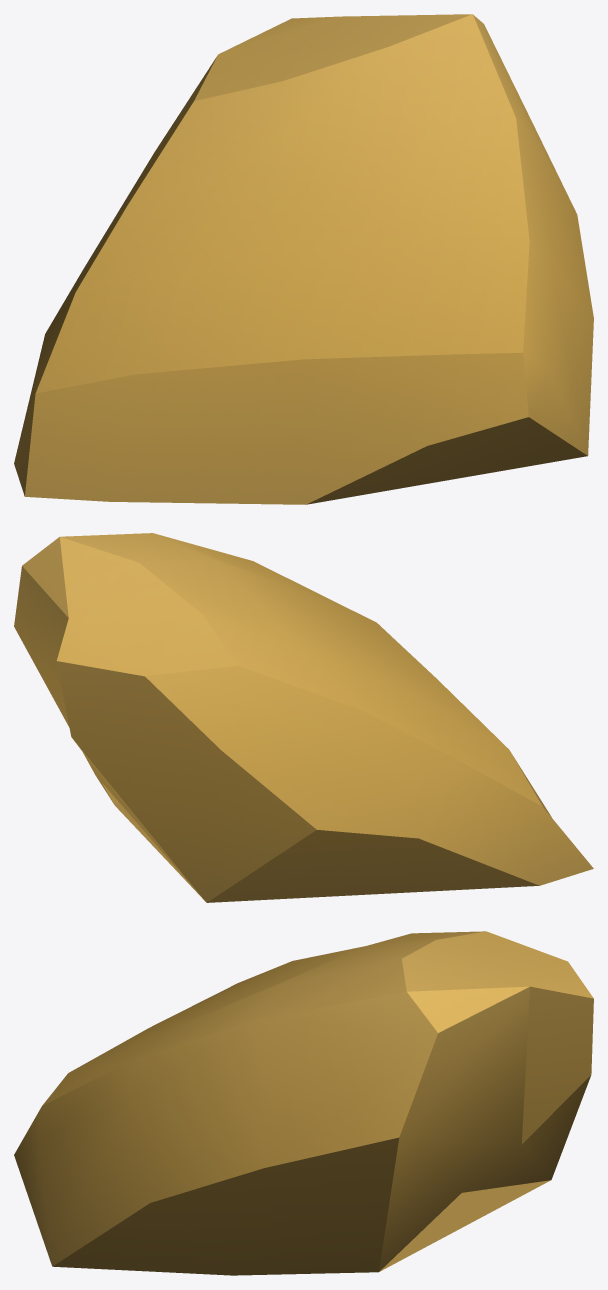
File: Forest_Stone_008.FBX
3 views of the same model, one above another, from view 1: azimuth 30°, elevation 25°; view 2: azimuth 150°, elevation 25°; view 3: azimuth 270°, elevation 25° (orthographic). The views are drawn at different scales.
Visible parts, largest first — view 1: Forest_Stone_008; view 2: Forest_Stone_008; view 3: Forest_Stone_008.
Part boxes in pixels (x1,y1,x2,y2): Forest_Stone_008: (14,14,593,504); Forest_Stone_008: (14,533,593,902); Forest_Stone_008: (14,931,593,1275).
Bounding box in the file's own units: 293 × 145 × 250.
1 material, 1 textured.
